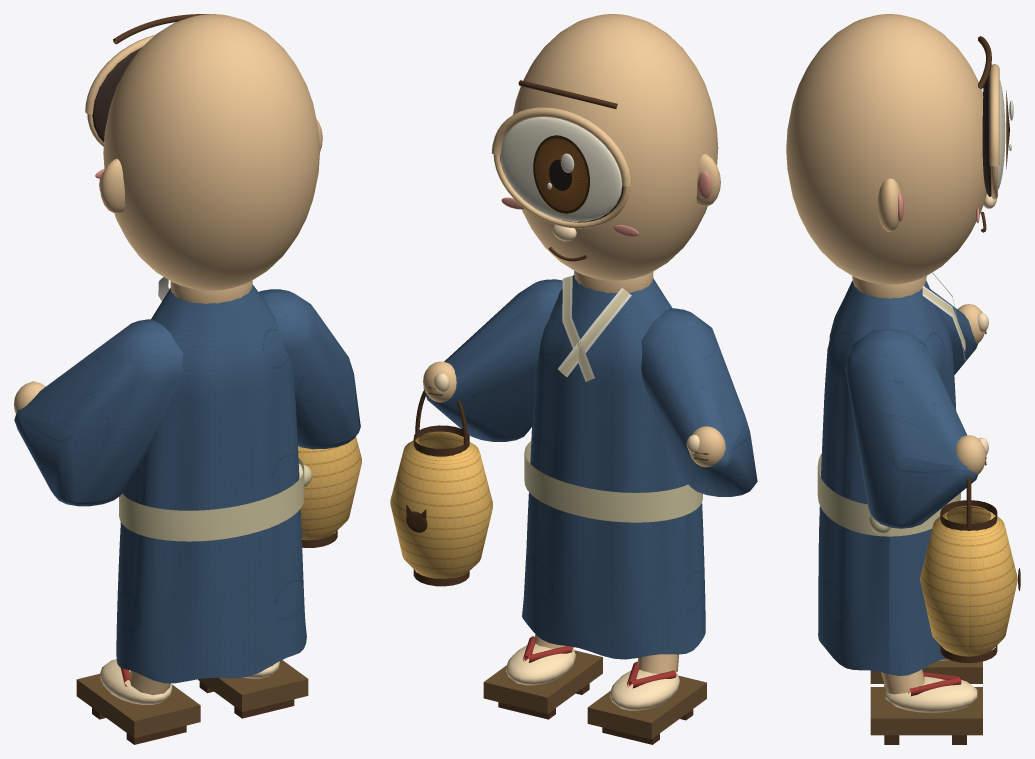
File: nyanisyarud-yokai-hitotsume-lantern.glb
The picture shows the model from 3 angles, left to right: view 1: azimuth 30°, elevation 25°; view 2: azimuth 150°, elevation 25°; view 3: azimuth 270°, elevation 25°; orthographic projection. The views are drawn at different scales.
Visible parts, largest first — view 1: Refined_Hitotsume_Lantern; view 2: Refined_Hitotsume_Lantern; view 3: Refined_Hitotsume_Lantern.
Boxes of the visible parts, x1,y1,x2,y2 form: Refined_Hitotsume_Lantern: [14, 14, 361, 744]; Refined_Hitotsume_Lantern: [390, 14, 757, 744]; Refined_Hitotsume_Lantern: [786, 14, 1020, 744].
Bounding box in the file's own units: 0.83 × 1.62 × 0.502.
Materials: 1 (1 with a texture image).
